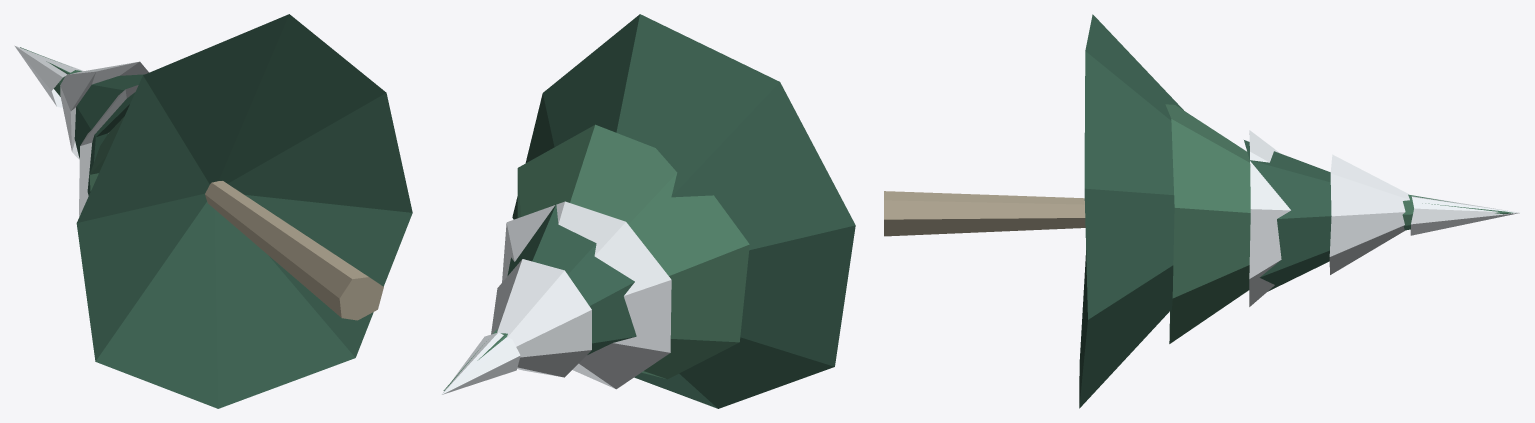
The model's file is TreeConiferD3.fbx.
3 views of the same model, side by side, from view 1: azimuth 30°, elevation 25°; view 2: azimuth 150°, elevation 25°; view 3: azimuth 270°, elevation 25° (orthographic). The views are drawn at different scales.
Visible parts, largest first — view 1: M_Tree_Pine_Dark, M_Tree_PaleWood, M_Tree_Snow, M_Tree_Pine_Mid; view 2: M_Tree_Pine_Dark, M_Tree_Pine_Mid, M_Tree_Snow; view 3: M_Tree_Pine_Dark, M_Tree_Pine_Mid, M_Tree_Snow, M_Tree_PaleWood.
Boxes of the visible parts, x1,y1,x2,y2 form: M_Tree_Pine_Dark: [74, 14, 412, 408]; M_Tree_PaleWood: [205, 181, 383, 320]; M_Tree_Snow: [14, 45, 148, 216]; M_Tree_Pine_Mid: [20, 47, 124, 191]; M_Tree_Pine_Dark: [507, 14, 855, 408]; M_Tree_Pine_Mid: [443, 124, 749, 390]; M_Tree_Snow: [441, 201, 671, 394]; M_Tree_Pine_Dark: [1079, 14, 1331, 408]; M_Tree_Pine_Mid: [1165, 104, 1512, 343]; M_Tree_Snow: [1249, 130, 1520, 306]; M_Tree_PaleWood: [884, 191, 1085, 236].
Bounding box in the file's own units: 22.63 × 23.98 × 40.02.
